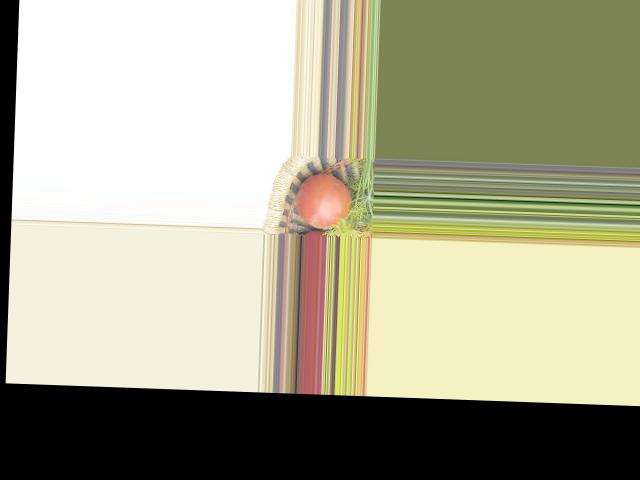tomato: (295, 173, 353, 229)
